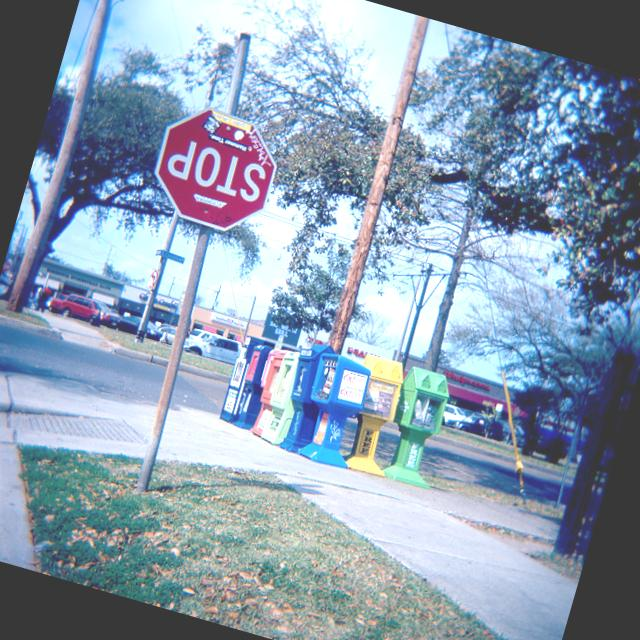Vehicle: (58, 292, 124, 333), (182, 326, 244, 366), (182, 326, 244, 366), (115, 312, 163, 340), (440, 402, 470, 431), (457, 411, 488, 437), (152, 322, 177, 347), (46, 290, 66, 314)
